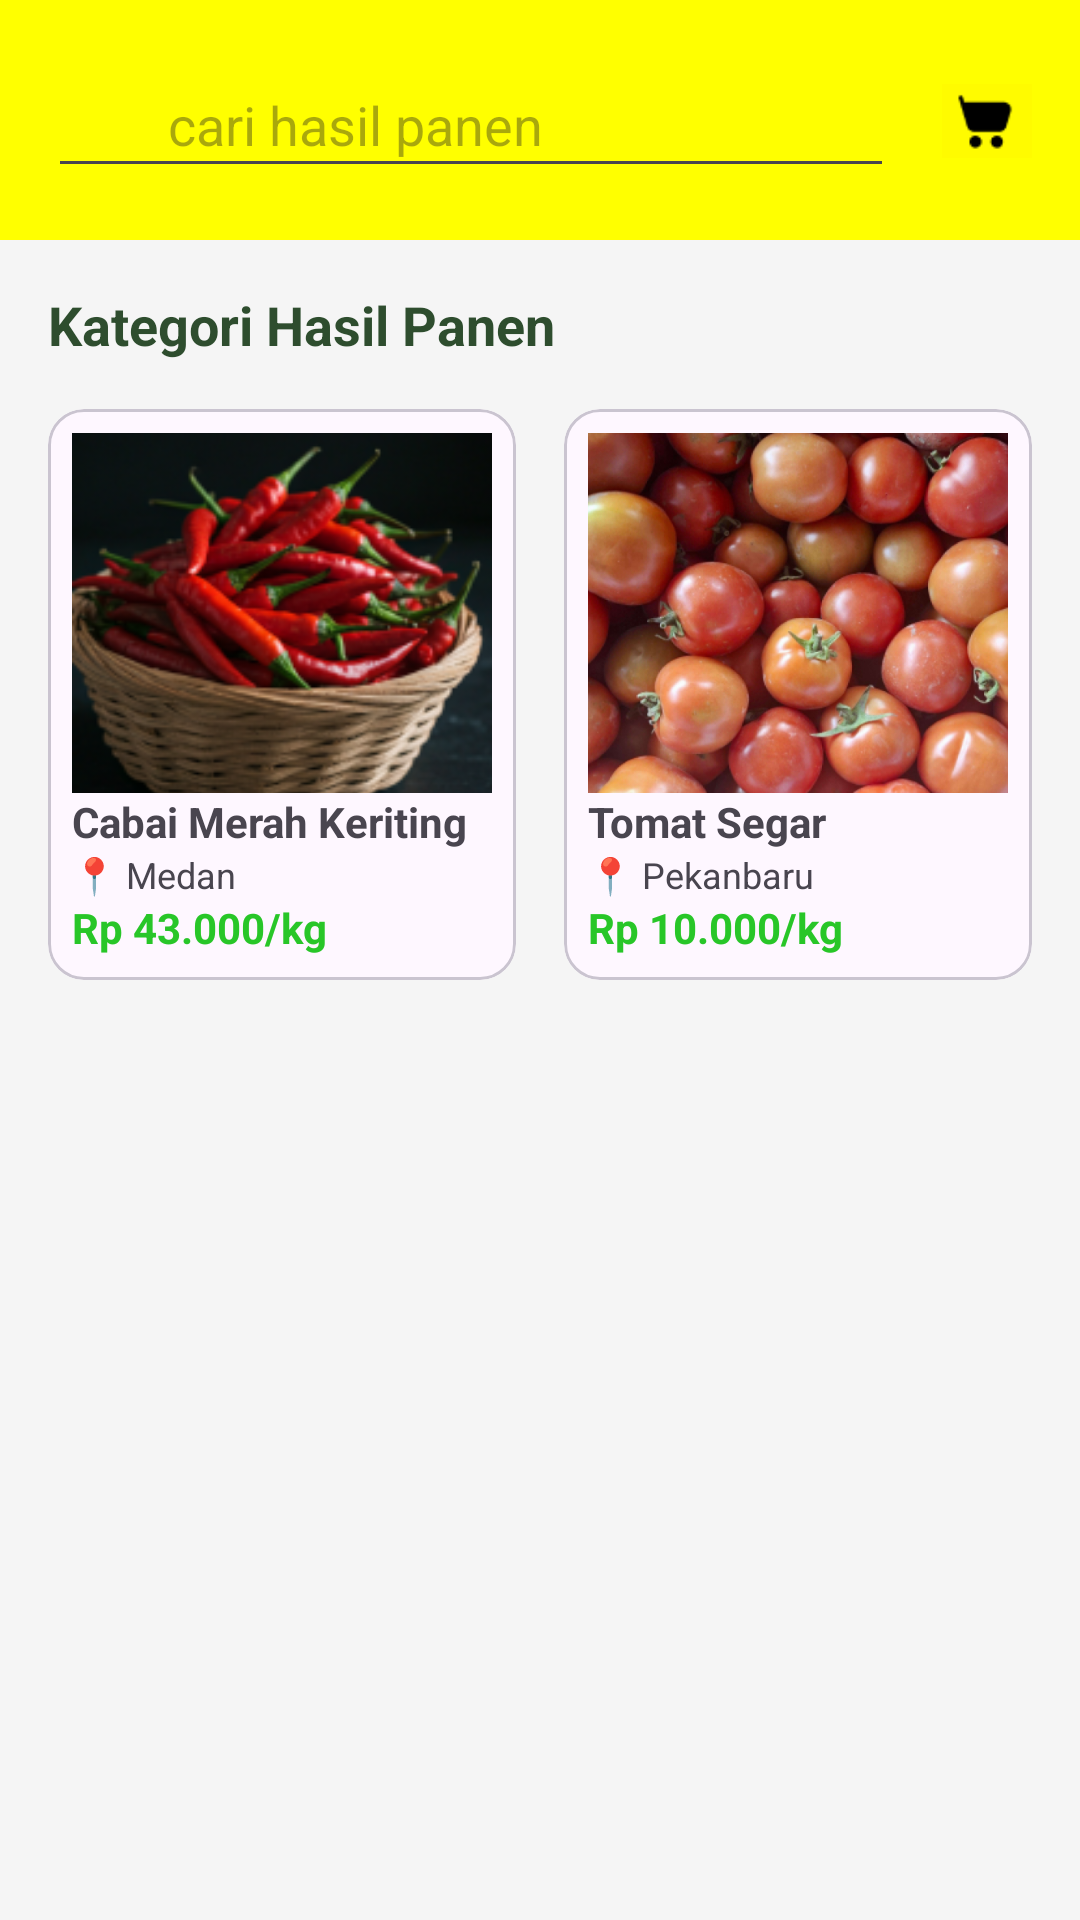

Point at icon controls on the screen. Image size 1080 × 1920, points as (x=x, y=y).
keranjang: (x=985, y=122)
